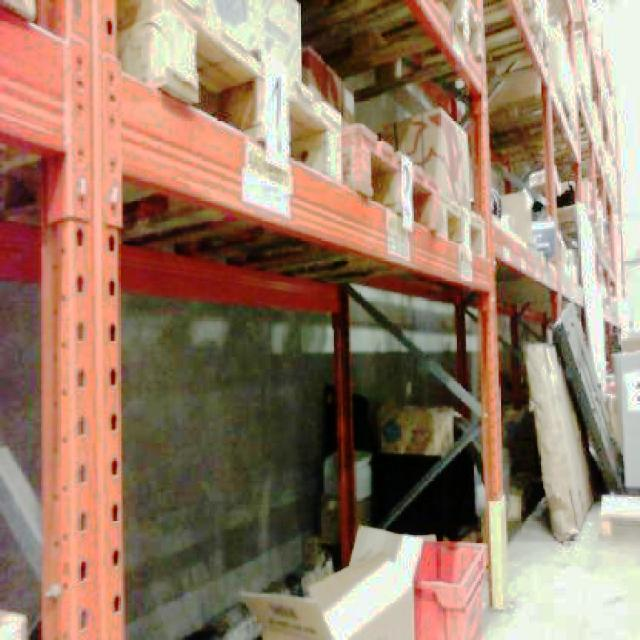ground: (0, 489, 638, 638)
pallet: (0, 0, 637, 295), (520, 300, 638, 545)
